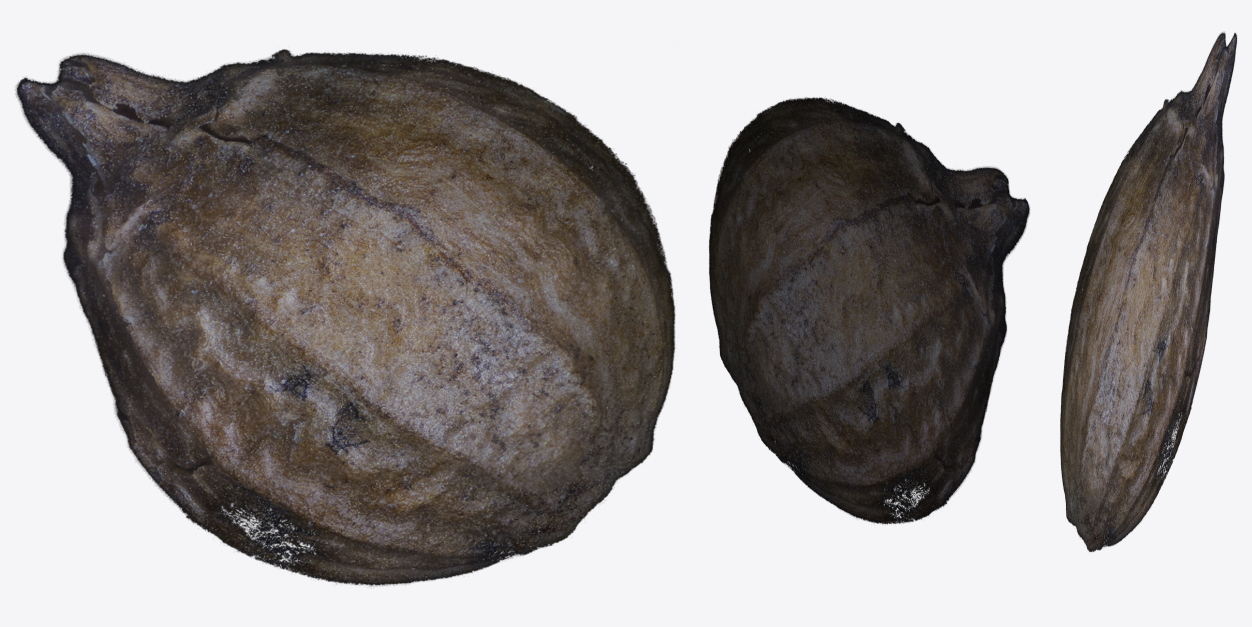
The model's file is graineair.glb.
3 views of the same model, side by side, from view 1: azimuth 30°, elevation 25°; view 2: azimuth 150°, elevation 25°; view 3: azimuth 270°, elevation 25° (orthographic). The views are drawn at different scales.
Visible parts, largest first — view 1: seeds_0022_Calque-21; view 2: seeds_0022_Calque-21; view 3: seeds_0022_Calque-21.
Boxes of the visible parts, bbox=[...] form: seeds_0022_Calque-21: bbox=[15, 49, 675, 586]; seeds_0022_Calque-21: bbox=[709, 97, 1029, 524]; seeds_0022_Calque-21: bbox=[1060, 32, 1236, 551].
Size of the model in its own units: 0.259 by 0.2539 by 0.1011.
1 material, 1 textured.
